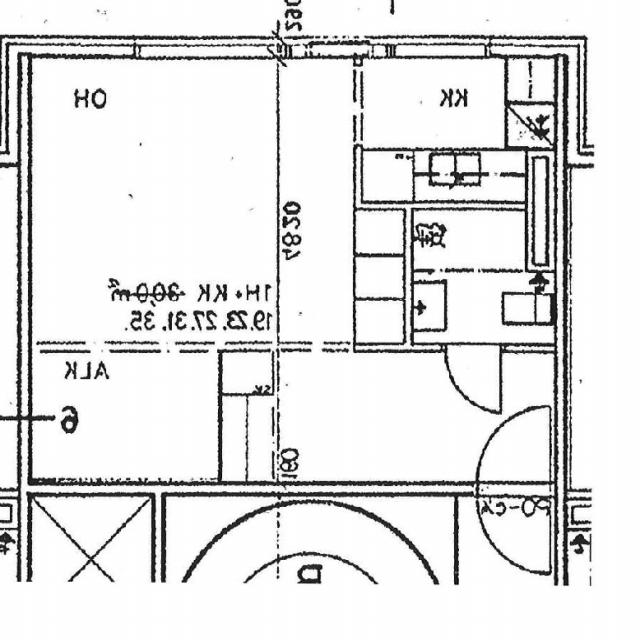door: (477, 404, 550, 496), (477, 482, 550, 573), (447, 344, 501, 412)
